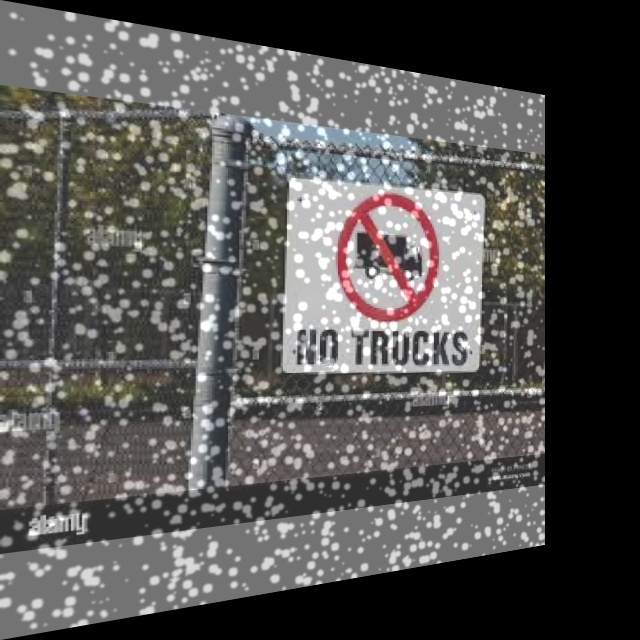Truck_Prohibited: (331, 184, 443, 325)
